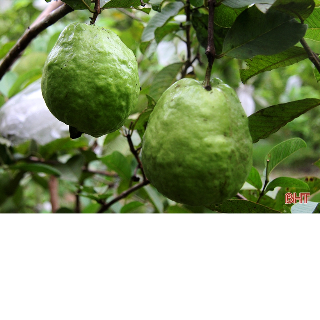oi: (127, 73, 256, 207), (36, 19, 141, 138)
